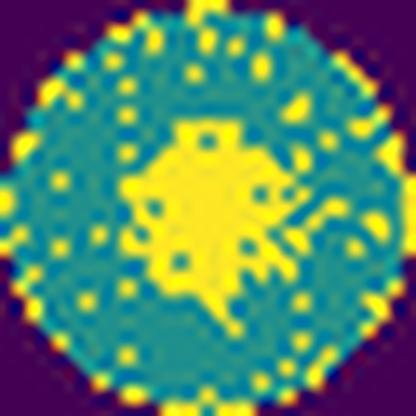Center: (117, 119, 317, 342)
